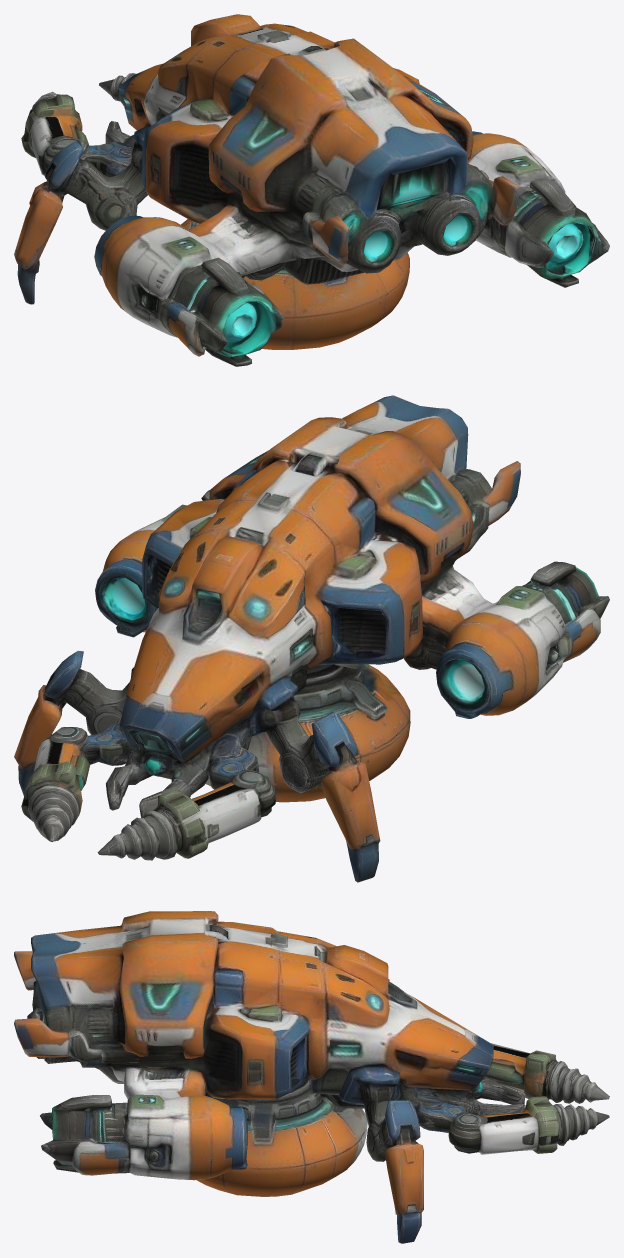
File: tick.glb
The picture shows the model from 3 angles, top to bottom: view 1: azimuth 30°, elevation 25°; view 2: azimuth 150°, elevation 25°; view 3: azimuth 270°, elevation 25°; orthographic projection. The views are drawn at different scales.
Visible parts, largest first — view 1: Mesh_0.023; view 2: Mesh_0.023; view 3: Mesh_0.023.
Boxes of the visible parts, box(x1,y1,x2,y2) form: Mesh_0.023: box(14, 14, 609, 366); Mesh_0.023: box(14, 395, 609, 882); Mesh_0.023: box(14, 911, 609, 1243).
Bounding box in the file's own units: 1.3 × 0.8767 × 1.91.
Materials: 1 (1 with a texture image).
